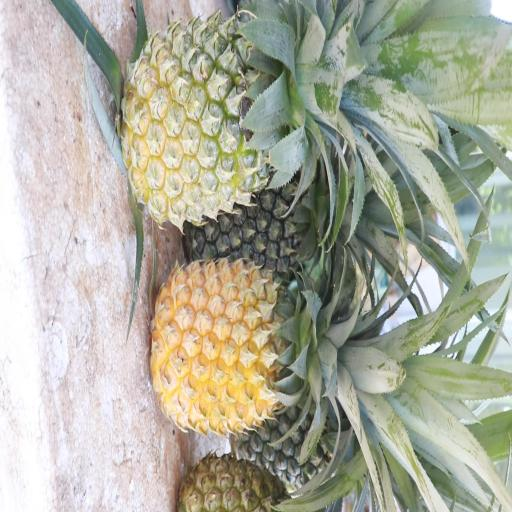------------------------------: (126, 24, 320, 217)
Pineapple - v8 v1: (152, 257, 332, 429)
